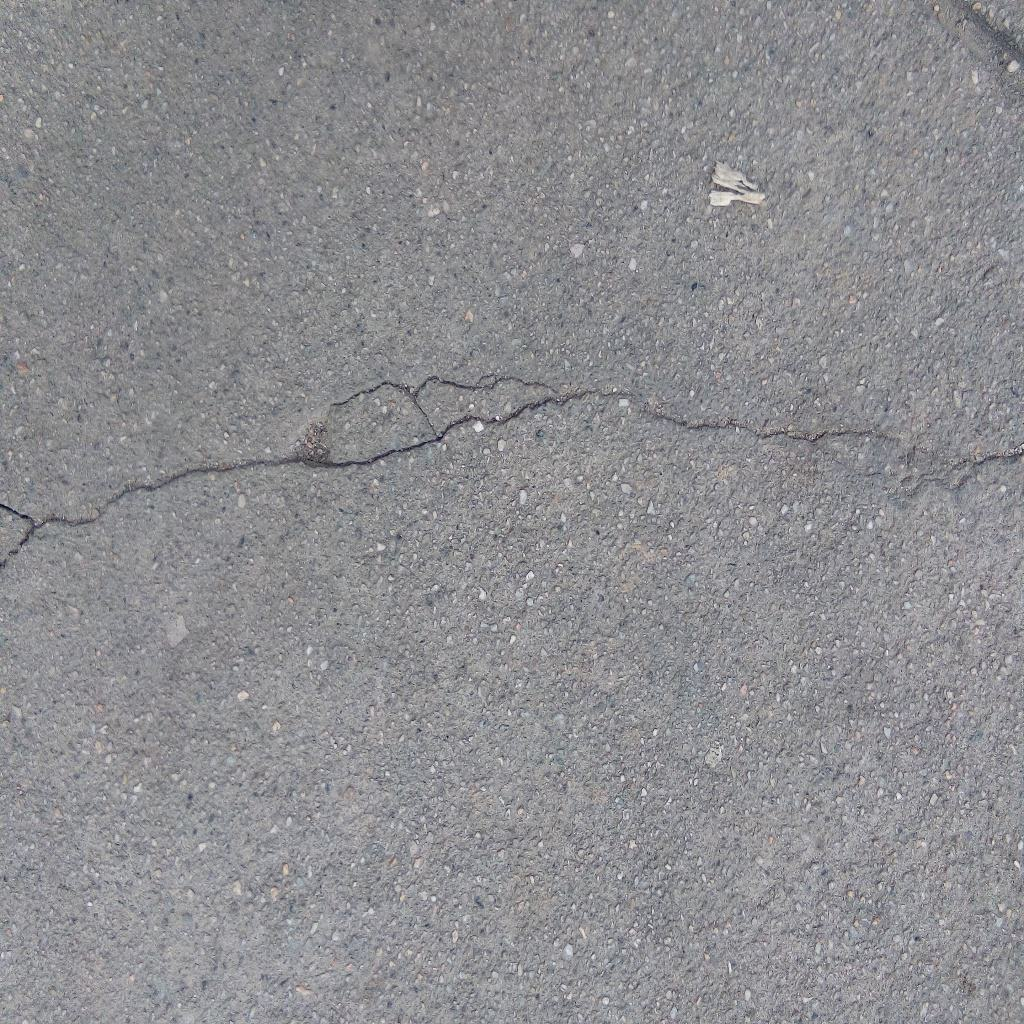Crack: (1, 373, 1024, 566)
